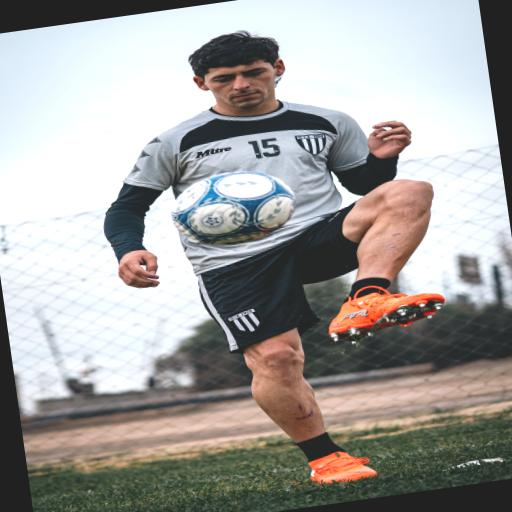shoe: (329, 286, 444, 341), (309, 452, 377, 483)
